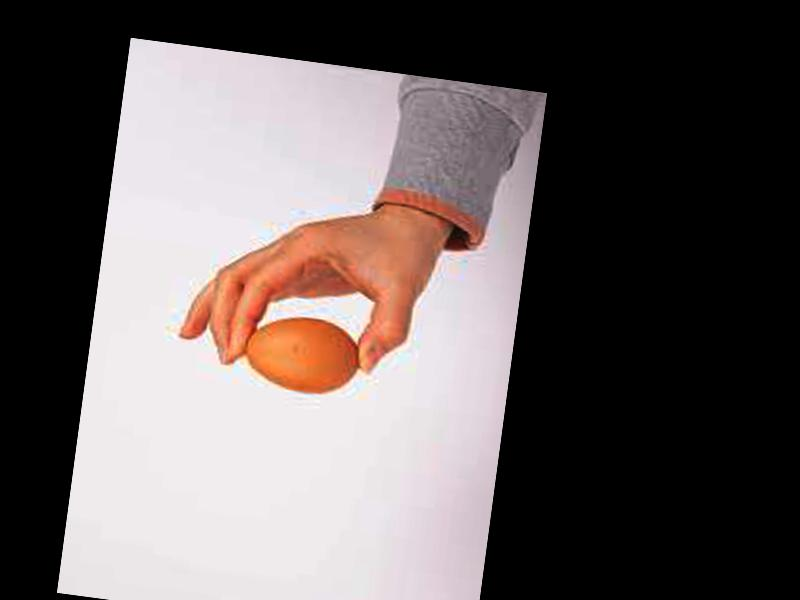Eggs: (238, 312, 360, 398)
